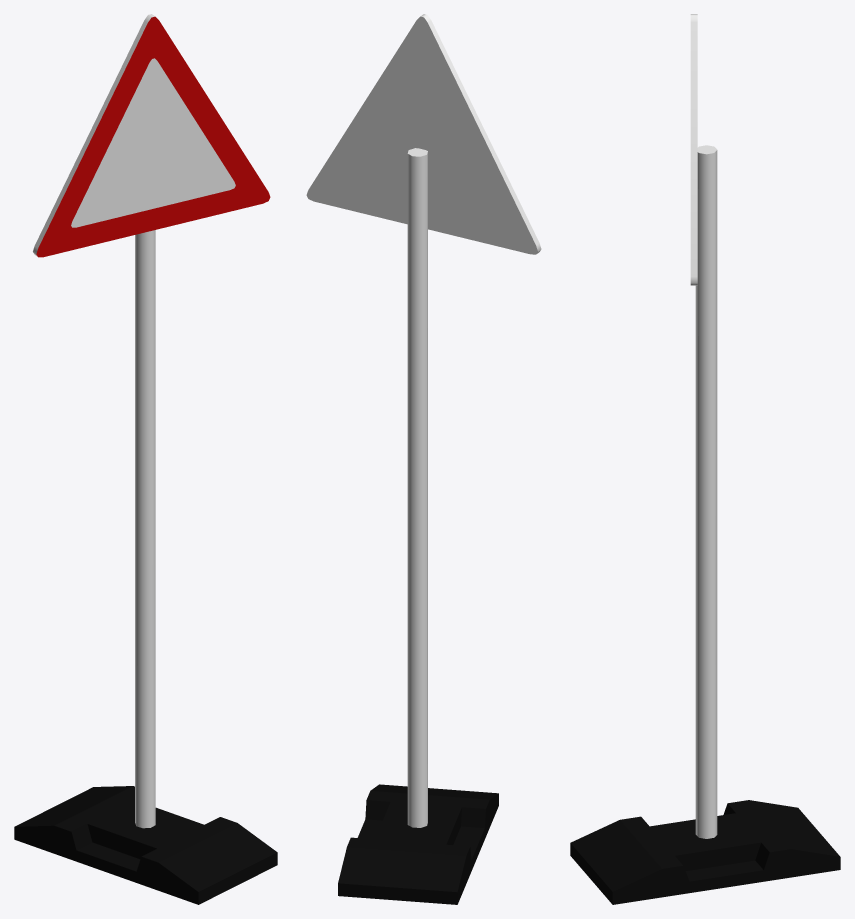
Rendered from ConstructionSiteSign.fbx.
The picture shows the model from 3 angles, left to right: view 1: azimuth 30°, elevation 25°; view 2: azimuth 150°, elevation 25°; view 3: azimuth 270°, elevation 25°; orthographic projection. The views are drawn at different scales.
Visible parts, largest first — view 1: ConstructionSiteSign, SignStand04; view 2: ConstructionSiteSign, SignStand04; view 3: SignStand04, ConstructionSiteSign.
Part boxes in pixels (box(x1,y1,x2,y2)): ConstructionSiteSign: box(33, 14, 270, 828); SignStand04: box(14, 786, 277, 904); ConstructionSiteSign: box(306, 14, 541, 827); SignStand04: box(338, 784, 498, 904); SignStand04: box(570, 800, 840, 904); ConstructionSiteSign: box(690, 14, 717, 838).
Bounding box in the file's own units: 38.87 × 133 × 38.5.
